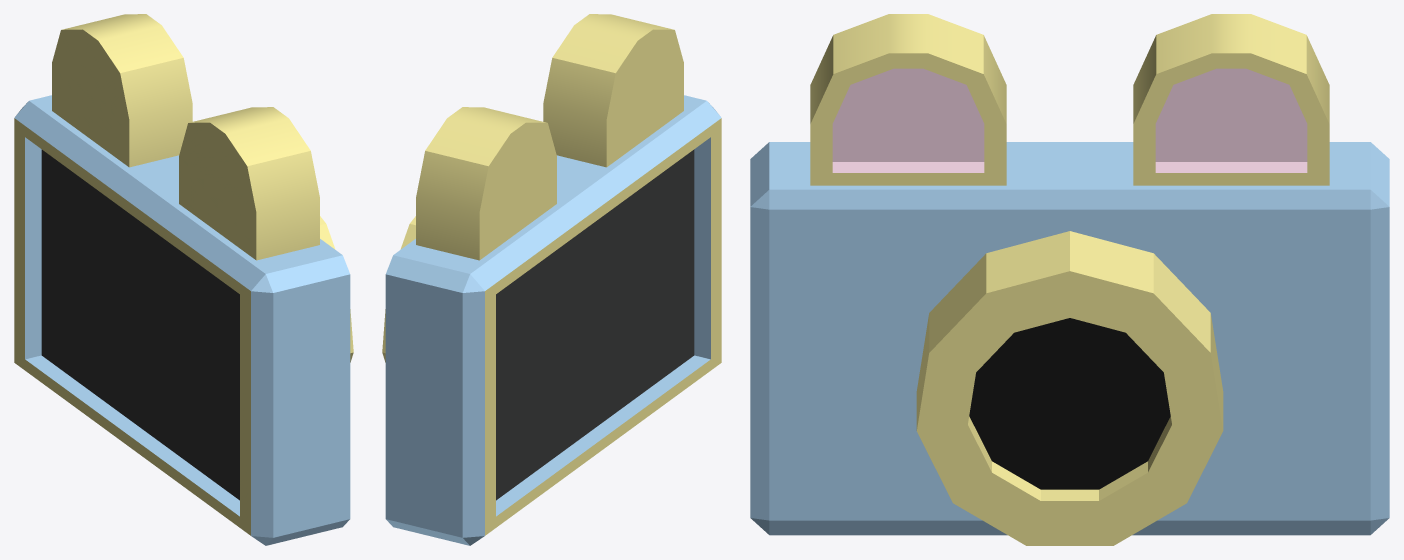
The model's file is Cam.fbx.
3 views of the same model, side by side, from view 1: azimuth 30°, elevation 25°; view 2: azimuth 150°, elevation 25°; view 3: azimuth 270°, elevation 25° (orthographic). The views are drawn at different scales.
Visible parts, largest first — view 1: body, Layarcam, kuping; view 2: body, Layarcam, kuping; view 3: body, kamera, kuping.
Part boxes in pixels (<box>): body: <box>14,95,350,545</box>; Layarcam: <box>41,149,239,500</box>; kuping: <box>52,14,319,260</box>; body: <box>385,95,721,545</box>; Layarcam: <box>496,149,694,500</box>; kuping: <box>416,14,683,260</box>; body: <box>750,142,1389,535</box>; kamera: <box>916,231,1223,545</box>; kuping: <box>810,14,1329,185</box>.
Size of the model in its own units: 4.91 by 10.98 by 13.32.
